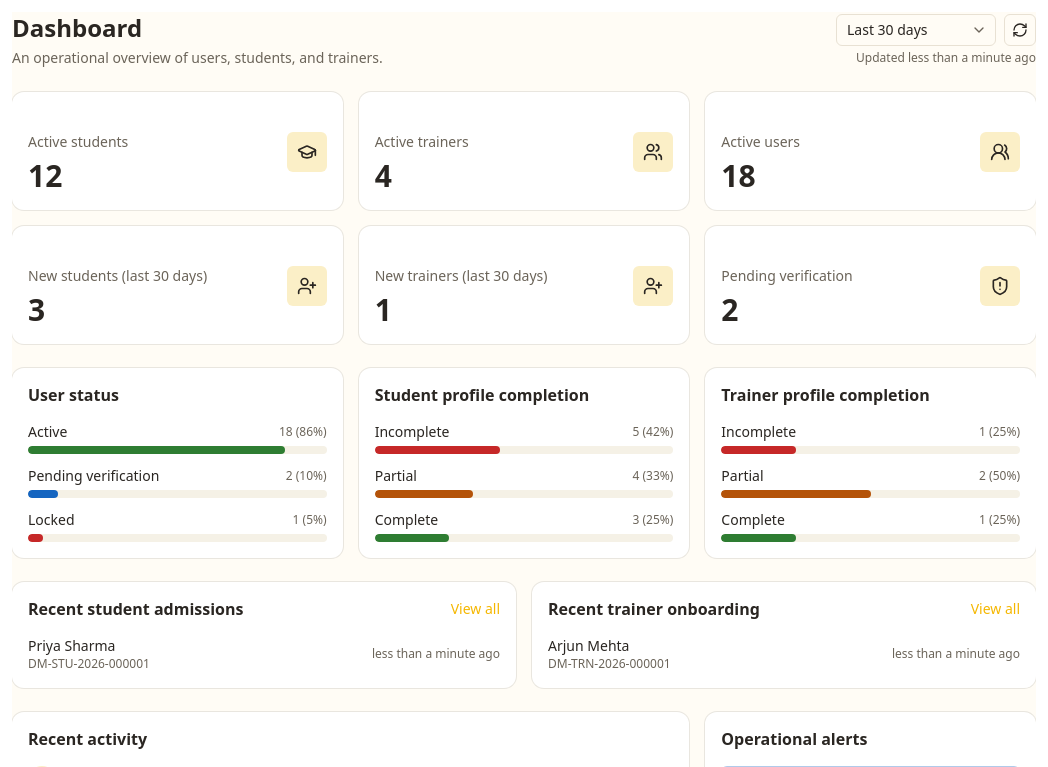
Test case: AdminDashboardPage › changes the period via the selector and refetches
The image size is (1048, 767).
expect the text "Active students" is shown: met, box x1=28 y1=132 x2=128 y2=152
Click the dropdown named "dashboard period": (916, 30) x1=836 y1=14 x2=996 y2=46
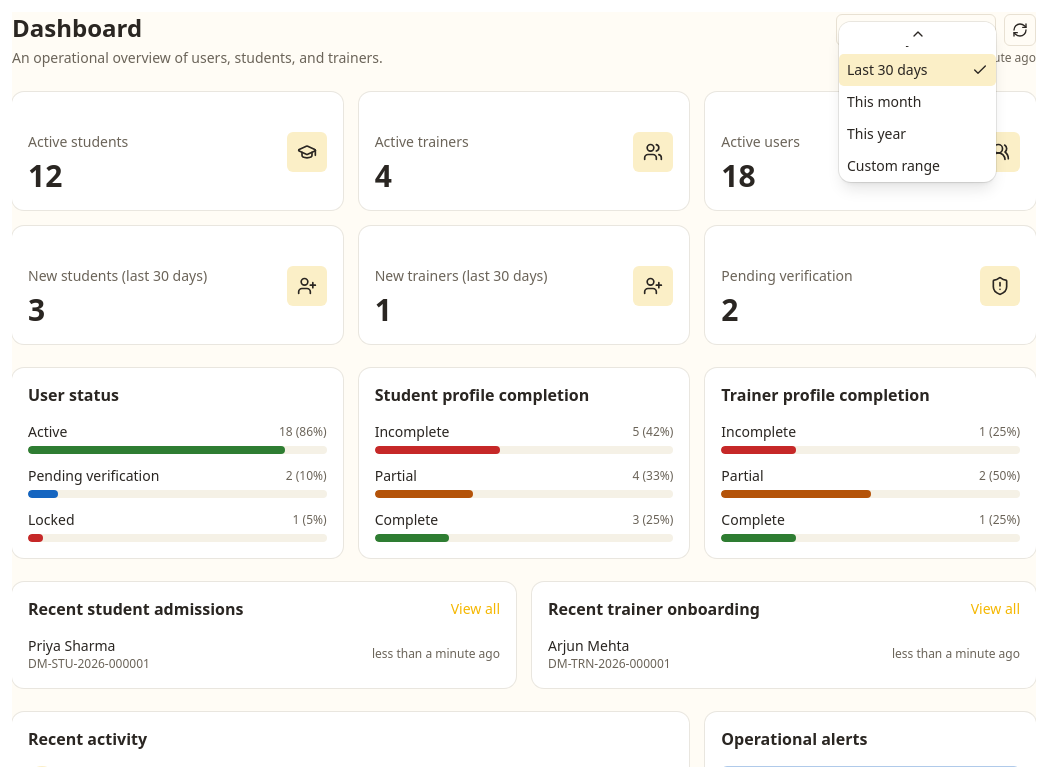
Click the option "This month": (884, 102) x1=847 y1=92 x2=921 y2=111
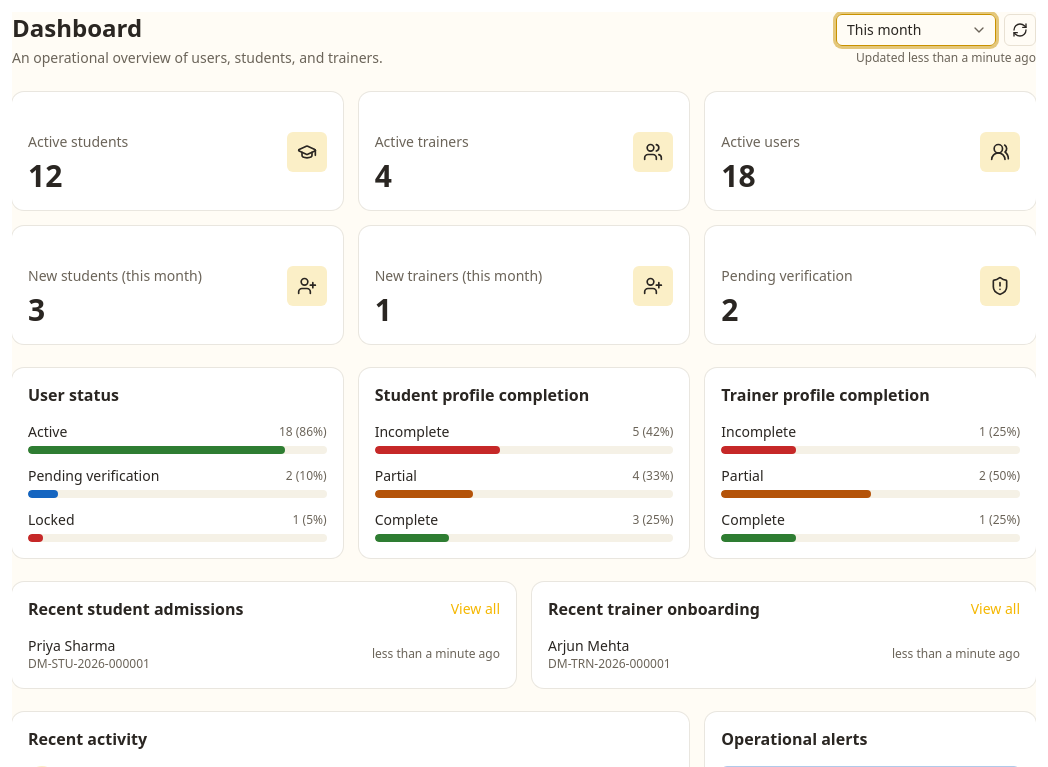
expect the dropdown named "dashboard period" reads "This month": met, box x1=836 y1=14 x2=996 y2=46
